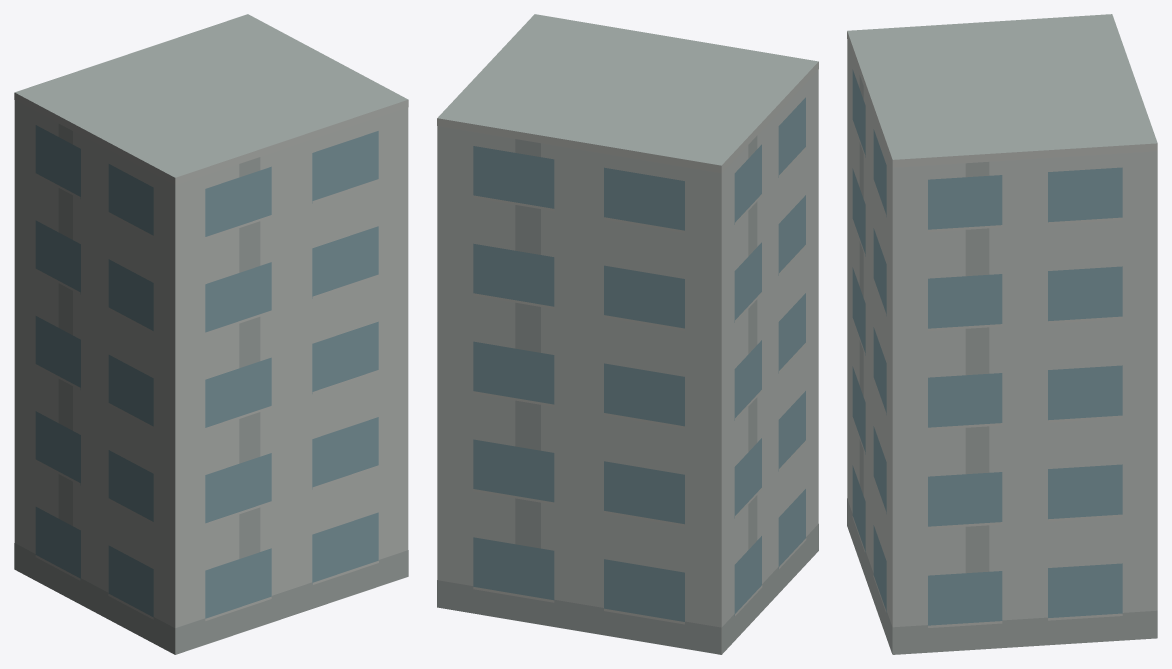
File: residential-5044a4ca-6f58-46ac-ba86-e34f840a0ac9.glb
The picture shows the model from 3 angles, left to right: view 1: azimuth 30°, elevation 25°; view 2: azimuth 150°, elevation 25°; view 3: azimuth 270°, elevation 25°; orthographic projection. The views are drawn at different scales.
Parts seen in each view (by area): view 1: residential-5044a4ca-6f58-46ac-ba86-e34f840a0ac9.tmp; view 2: residential-5044a4ca-6f58-46ac-ba86-e34f840a0ac9.tmp; view 3: residential-5044a4ca-6f58-46ac-ba86-e34f840a0ac9.tmp.
Part boxes in pixels (bbox=[...]): residential-5044a4ca-6f58-46ac-ba86-e34f840a0ac9.tmp: bbox=[14, 14, 408, 654]; residential-5044a4ca-6f58-46ac-ba86-e34f840a0ac9.tmp: bbox=[437, 14, 818, 654]; residential-5044a4ca-6f58-46ac-ba86-e34f840a0ac9.tmp: bbox=[847, 14, 1157, 654].
Bounding box in the file's own units: 9.65 × 15.25 × 8.68.
